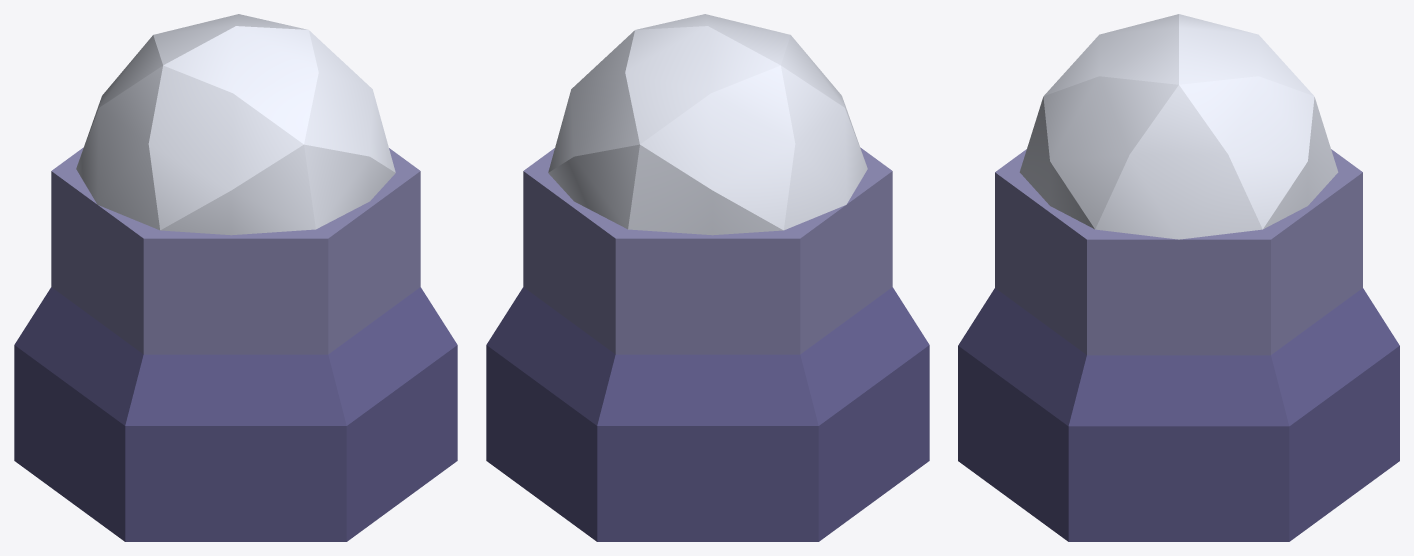
File: Button.fbx
3 views of the same model, side by side, from view 1: azimuth 30°, elevation 25°; view 2: azimuth 150°, elevation 25°; view 3: azimuth 270°, elevation 25° (orthographic).
Visible parts, largest first — view 1: hexagon_baseLarge%, icosphere_half; view 2: hexagon_baseLarge%, icosphere_half; view 3: hexagon_baseLarge%, icosphere_half.
Part boxes in pixels (x1,y1,x2,y2): hexagon_baseLarge%: (14, 147, 457, 541); icosphere_half: (76, 14, 395, 235); hexagon_baseLarge%: (486, 147, 929, 541); icosphere_half: (548, 14, 867, 235); hexagon_baseLarge%: (958, 149, 1399, 541); icosphere_half: (1019, 14, 1338, 239).
Bounding box in the file's own units: 6 × 7.5 × 6.93.
